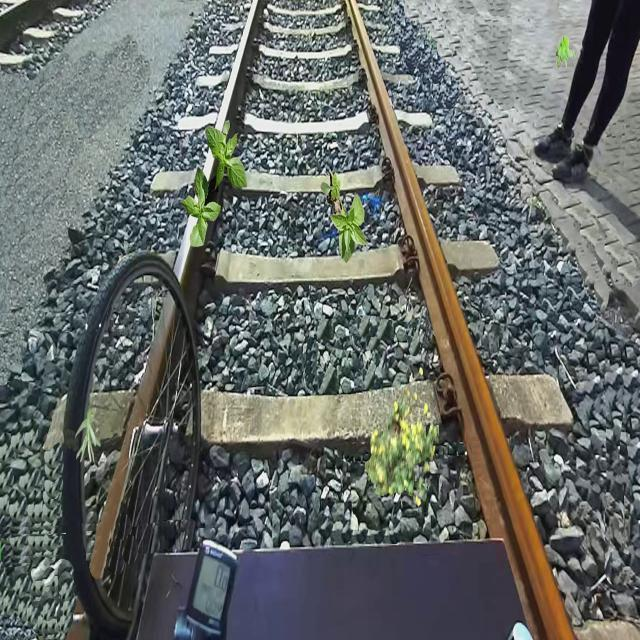Plant: (365, 367, 440, 507), (321, 169, 369, 264), (179, 167, 221, 247), (206, 120, 248, 191), (75, 408, 101, 464), (556, 35, 576, 68)
